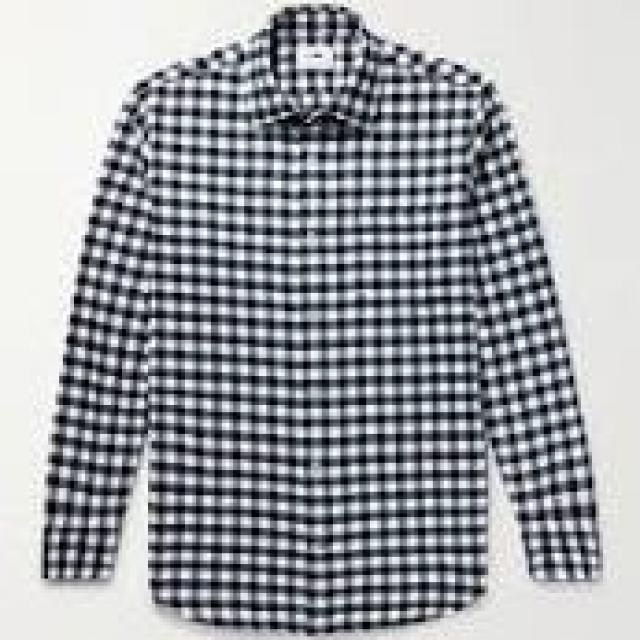plaid: (37, 0, 611, 636)
